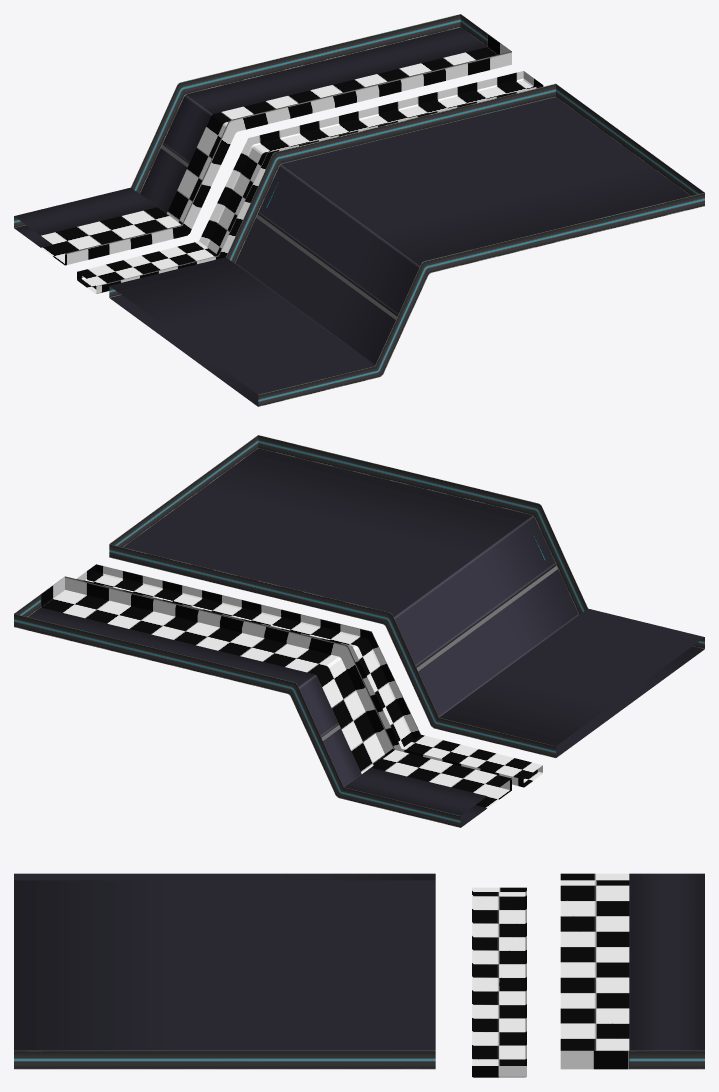
The model's file is Finish_Line.FBX.
The picture shows the model from 3 angles, top to bottom: view 1: azimuth 30°, elevation 25°; view 2: azimuth 150°, elevation 25°; view 3: azimuth 270°, elevation 25°; orthographic projection. The views are drawn at different scales.
Visible parts, largest first — view 1: End; view 2: End; view 3: End.
Boxes of the visible parts, <box> form: End: <box>14,14,704,406</box>; End: <box>14,435,704,827</box>; End: <box>14,873,704,1077</box>.
Bounding box in the file's own units: 780 × 738 × 186.
